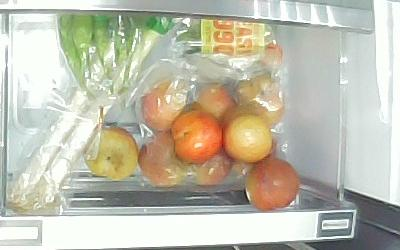prune: (83, 127, 138, 179), (171, 110, 223, 163), (245, 157, 298, 208), (225, 113, 272, 162)
prune_vinyl: (232, 74, 284, 128), (139, 130, 189, 185), (142, 79, 190, 128), (185, 147, 232, 185), (195, 86, 238, 122)
